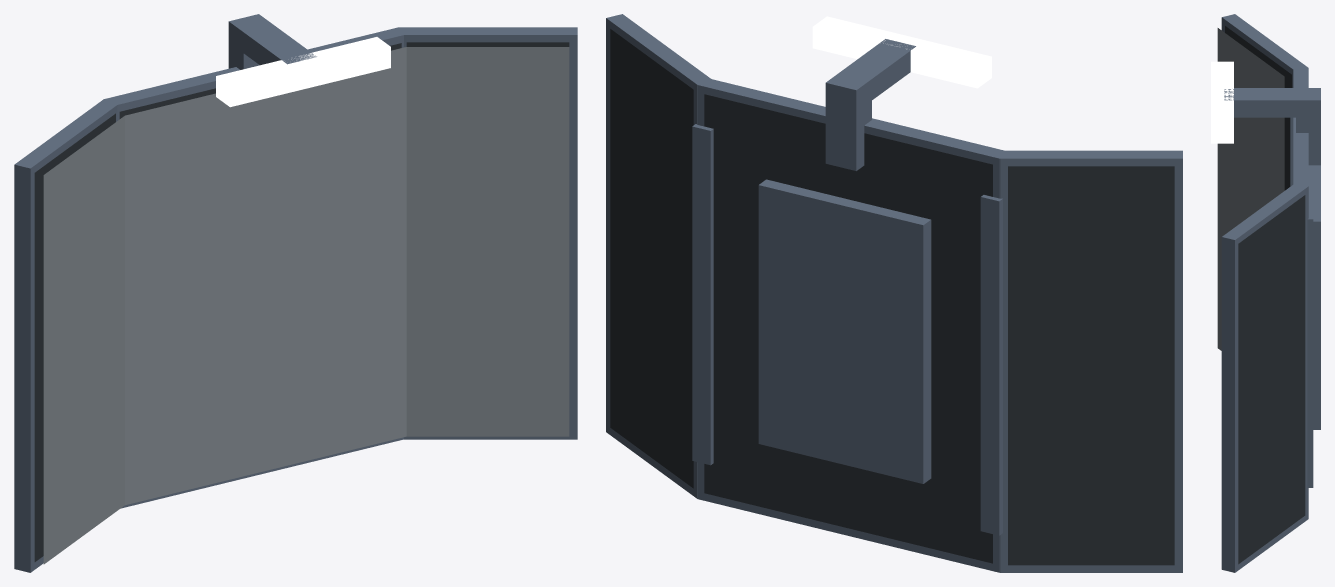
File: tri-fold.glb
The picture shows the model from 3 angles, left to right: view 1: azimuth 30°, elevation 25°; view 2: azimuth 150°, elevation 25°; view 3: azimuth 270°, elevation 25°; orthographic projection. The views are drawn at different scales.
Visible parts, largest first — view 1: makeup-face-center, makeup-face-right, makeup-face-left, makeup-frame-left, makeup-frame-right, makeup-lamp, makeup-back-left, makeup-frame-center, makeup-lamp-arm, makeup-back-right; view 2: makeup-back-left, makeup-back-center, makeup-wall-mount, makeup-back-right, makeup-frame-left, makeup-frame-center, makeup-hinge-left, makeup-hinge-right, makeup-frame-right, makeup-lamp, makeup-lamp-riser, makeup-lamp-arm; view 3: makeup-back-right, makeup-frame-right, makeup-face-left, makeup-lamp-arm, makeup-wall-mount, makeup-hinge-right, makeup-lamp, makeup-frame-left, makeup-frame-center, makeup-back-left, makeup-lamp-riser, makeup-hinge-left.
Boxes of the visible parts, x1,y1,x2,y2 form: makeup-face-center: [125, 47, 406, 505]; makeup-face-right: [406, 47, 569, 436]; makeup-face-left: [43, 116, 124, 564]; makeup-frame-left: [14, 99, 118, 572]; makeup-frame-right: [398, 27, 577, 439]; makeup-lamp: [216, 37, 390, 107]; makeup-back-left: [34, 113, 115, 561]; makeup-frame-center: [104, 27, 407, 508]; makeup-lamp-arm: [228, 14, 316, 65]; makeup-back-right: [406, 42, 569, 46]; makeup-back-left: [1008, 166, 1174, 565]; makeup-back-center: [704, 94, 992, 563]; makeup-wall-mount: [758, 179, 931, 483]; makeup-back-right: [610, 29, 693, 488]; makeup-frame-left: [999, 150, 1182, 572]; makeup-frame-center: [697, 78, 1008, 572]; makeup-hinge-left: [980, 195, 1002, 535]; makeup-hinge-right: [692, 124, 713, 465]; makeup-frame-right: [606, 14, 713, 498]; makeup-lamp: [812, 16, 991, 88]; makeup-lamp-riser: [825, 87, 871, 170]; makeup-lamp-arm: [825, 39, 915, 111]; makeup-back-right: [1238, 195, 1305, 564]; makeup-frame-right: [1221, 185, 1308, 572]; makeup-face-left: [1217, 28, 1284, 350]; makeup-lamp-arm: [1224, 88, 1320, 117]; makeup-wall-mount: [1308, 165, 1320, 429]; makeup-hinge-right: [1307, 212, 1313, 487]; makeup-lamp: [1211, 61, 1233, 143]; makeup-frame-left: [1221, 14, 1307, 87]; makeup-frame-center: [1293, 67, 1308, 518]; makeup-back-left: [1225, 26, 1291, 190]; makeup-lamp-riser: [1296, 106, 1320, 165]; makeup-hinge-left: [1290, 117, 1293, 186].
Size of the model in its own units: 0.5596 by 0.422 by 0.115.
